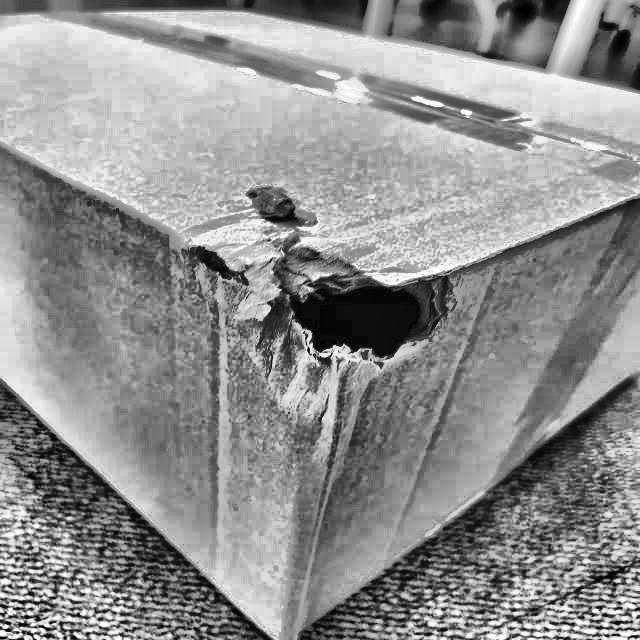box: (0, 3, 639, 639)
hole: (189, 190, 456, 367)
